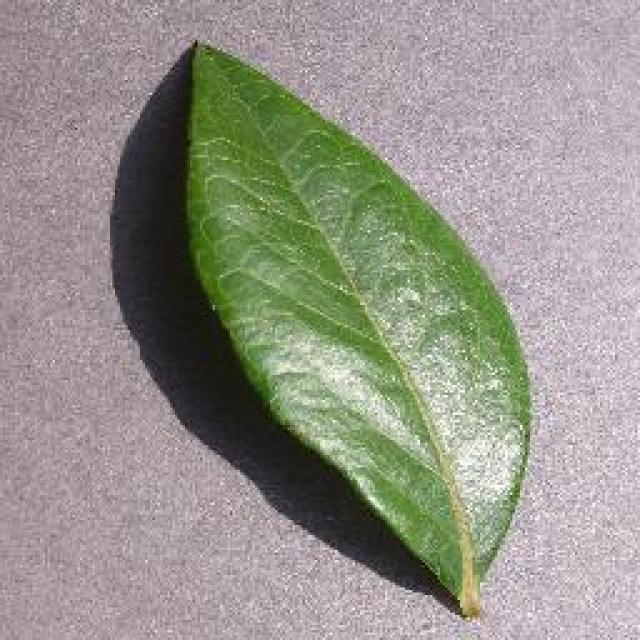Blu_healthy: (214, 152, 488, 496)
